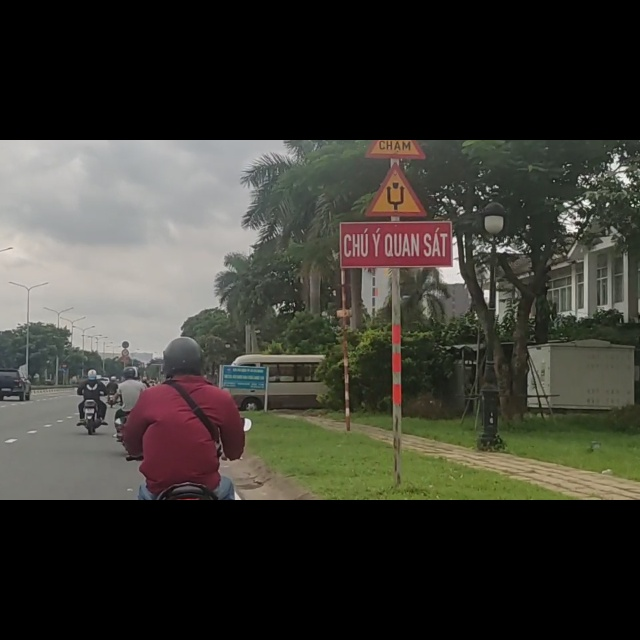bien_cam: (363, 40, 429, 139), (121, 357, 130, 371), (61, 395, 69, 404), (62, 404, 68, 416)
